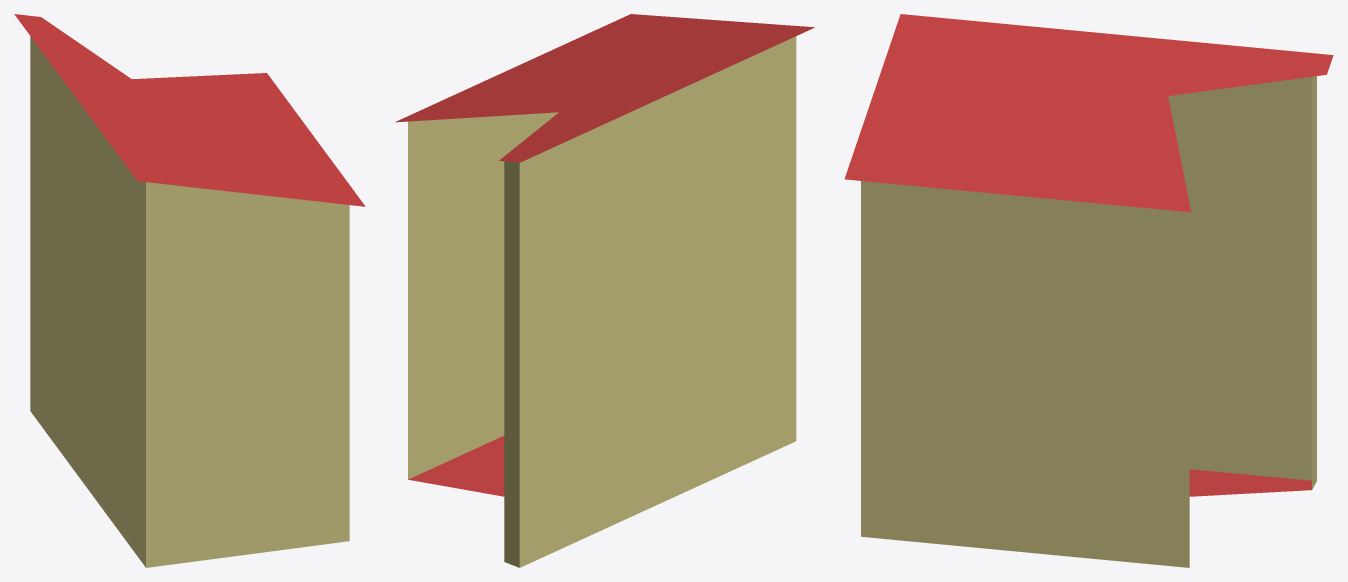
3 views of the same model, side by side, from view 1: azimuth 30°, elevation 25°; view 2: azimuth 150°, elevation 25°; view 3: azimuth 270°, elevation 25° (orthographic). The views are drawn at different scales.
Bounding box in the file's own units: 5.87 × 8.75 × 8.32.
